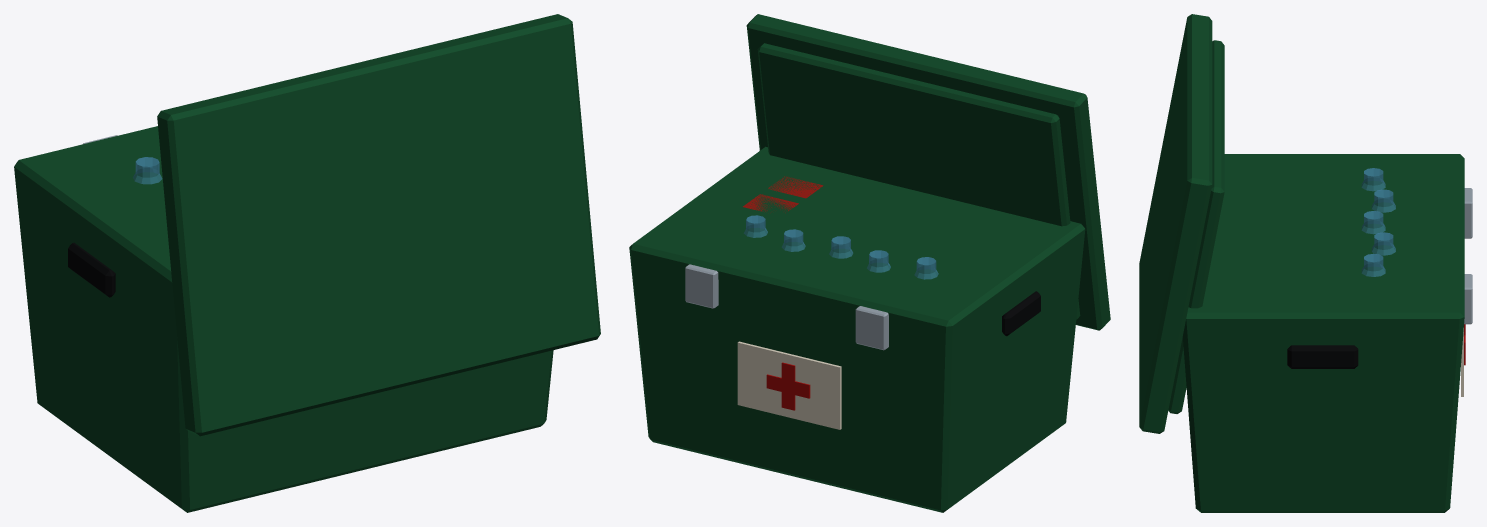
Rendered from RESCUE_09_EmergencySupplyCrate.obj.
3 views of the same model, side by side, from view 1: azimuth 30°, elevation 25°; view 2: azimuth 150°, elevation 25°; view 3: azimuth 270°, elevation 25° (orthographic). The views are drawn at different scales.
Visible parts, largest first — view 1: RESCUE_09_EmergencySupplyCrate_Lid, RESCUE_09_EmergencySupplyCrate_Crate_Body, RESCUE_09_EmergencySupplyCrate_Handles, RESCUE_09_EmergencySupplyCrate_Water_Bottles; view 2: RESCUE_09_EmergencySupplyCrate_Crate_Body, RESCUE_09_EmergencySupplyCrate_Lid, RESCUE_09_EmergencySupplyCrate_Label, RESCUE_09_EmergencySupplyCrate_Latches, RESCUE_09_EmergencySupplyCrate_Water_Bottles, RESCUE_09_EmergencySupplyCrate_Ration_Packs, RESCUE_09_EmergencySupplyCrate_Label_Cross, RESCUE_09_EmergencySupplyCrate_Handles; view 3: RESCUE_09_EmergencySupplyCrate_Crate_Body, RESCUE_09_EmergencySupplyCrate_Lid, RESCUE_09_EmergencySupplyCrate_Water_Bottles, RESCUE_09_EmergencySupplyCrate_Handles, RESCUE_09_EmergencySupplyCrate_Latches.
Boxes of the visible parts, left/top/right/bottom form: RESCUE_09_EmergencySupplyCrate_Lid: left=157, top=14, right=600, bottom=436; RESCUE_09_EmergencySupplyCrate_Crate_Body: left=14, top=126, right=553, bottom=512; RESCUE_09_EmergencySupplyCrate_Handles: left=68, top=242, right=115, bottom=297; RESCUE_09_EmergencySupplyCrate_Water_Bottles: left=133, top=157, right=162, bottom=184; RESCUE_09_EmergencySupplyCrate_Crate_Body: left=629, top=146, right=1085, bottom=512; RESCUE_09_EmergencySupplyCrate_Lid: left=746, top=14, right=1110, bottom=330; RESCUE_09_EmergencySupplyCrate_Label: left=737, top=341, right=841, bottom=429; RESCUE_09_EmergencySupplyCrate_Latches: left=685, top=264, right=888, bottom=350; RESCUE_09_EmergencySupplyCrate_Water_Bottles: left=744, top=215, right=938, bottom=279; RESCUE_09_EmergencySupplyCrate_Ration_Packs: left=743, top=176, right=823, bottom=212; RESCUE_09_EmergencySupplyCrate_Label_Cross: left=766, top=362, right=810, bottom=410; RESCUE_09_EmergencySupplyCrate_Handles: left=1002, top=291, right=1040, bottom=336; RESCUE_09_EmergencySupplyCrate_Crate_Body: left=1182, top=154, right=1464, bottom=512; RESCUE_09_EmergencySupplyCrate_Lid: left=1139, top=14, right=1224, bottom=433; RESCUE_09_EmergencySupplyCrate_Water_Bottles: left=1361, top=168, right=1395, bottom=276; RESCUE_09_EmergencySupplyCrate_Handles: left=1287, top=345, right=1358, bottom=368; RESCUE_09_EmergencySupplyCrate_Latches: left=1464, top=188, right=1472, bottom=324.
Size of the model in its own units: 0.79 by 0.7487 by 0.6569.
